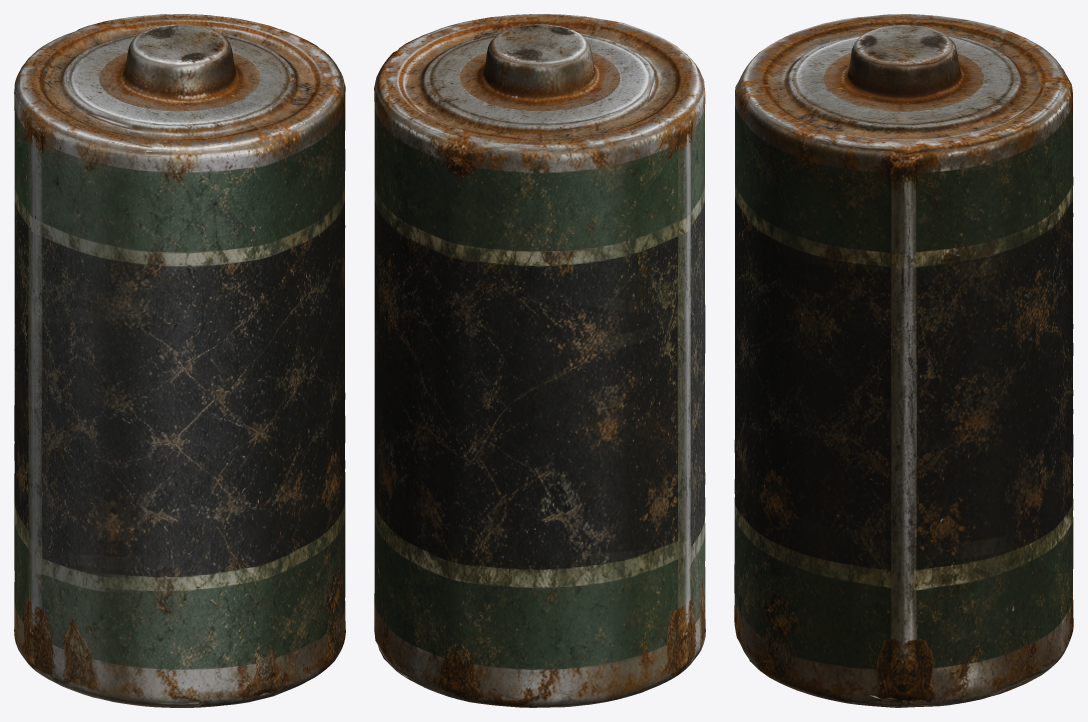
File: Battery.fbx
3 views of the same model, side by side, from view 1: azimuth 30°, elevation 25°; view 2: azimuth 150°, elevation 25°; view 3: azimuth 270°, elevation 25° (orthographic).
Visible parts, largest first — view 1: Battery; view 2: Battery; view 3: Battery.
Part boxes in pixels (x1,y1,x2,y2): Battery: (14,14,345,707); Battery: (374,14,705,707); Battery: (734,14,1073,707).
Bounding box in the file's own units: 3.15 × 6.1 × 3.13.
1 material, 1 textured.
